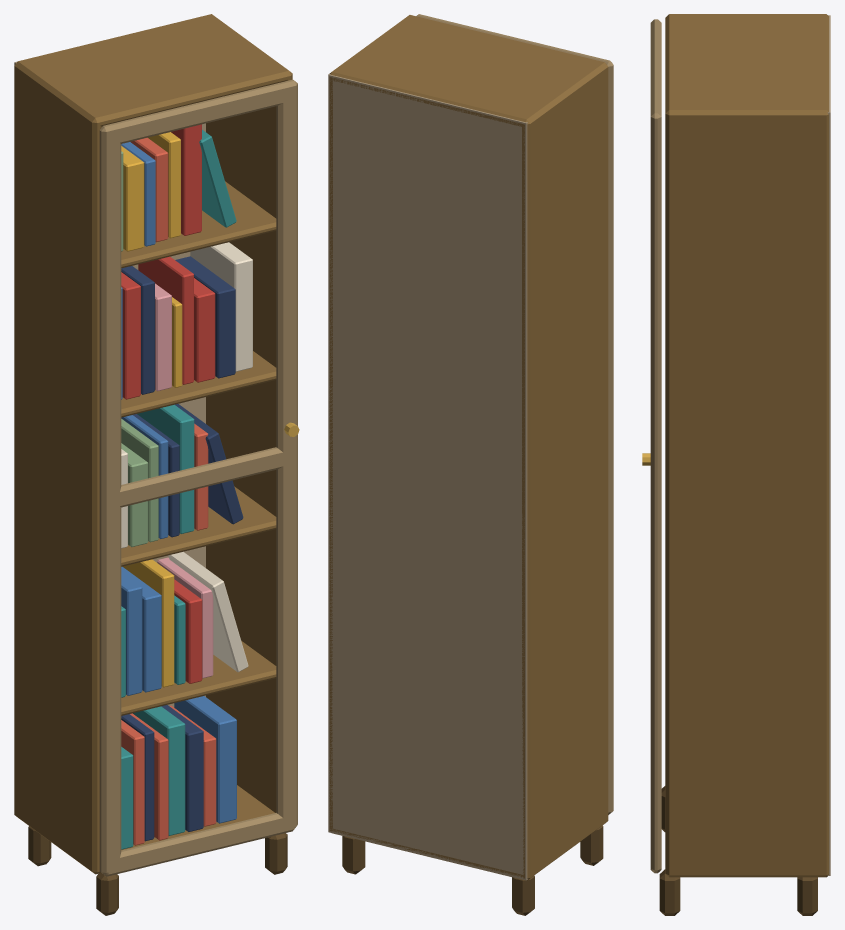
Rendered from closed_bookcase.glb.
3 views of the same model, side by side, from view 1: azimuth 30°, elevation 25°; view 2: azimuth 150°, elevation 25°; view 3: azimuth 270°, elevation 25° (orthographic).
Visible parts, largest first — view 1: closed_bookcase_Body; view 2: closed_bookcase_Body; view 3: closed_bookcase_Body.
Part boxes in pixels (x1,y1,x2,y2): closed_bookcase_Body: (14, 14, 299, 915); closed_bookcase_Body: (328, 14, 613, 915); closed_bookcase_Body: (642, 14, 830, 915).
Bounding box in the file's own units: 0.5 × 1.9 × 0.4.
